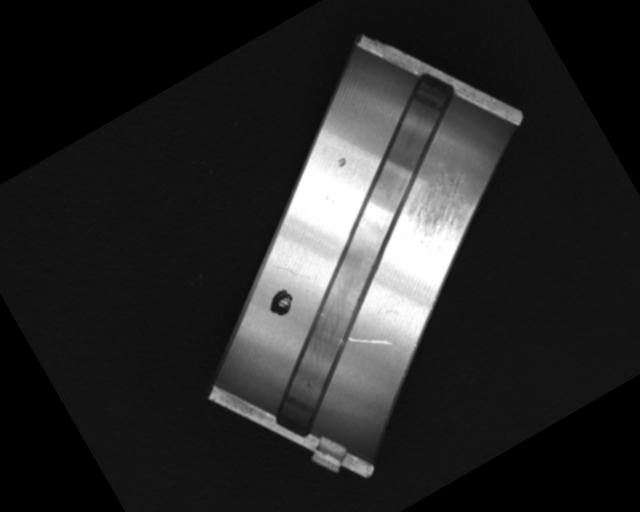blot: (262, 284, 301, 322)
bruise: (335, 155, 350, 170)
gap: (164, 67, 567, 445)
nick: (347, 318, 393, 361), (274, 252, 312, 292)
scratch: (386, 161, 500, 273)
